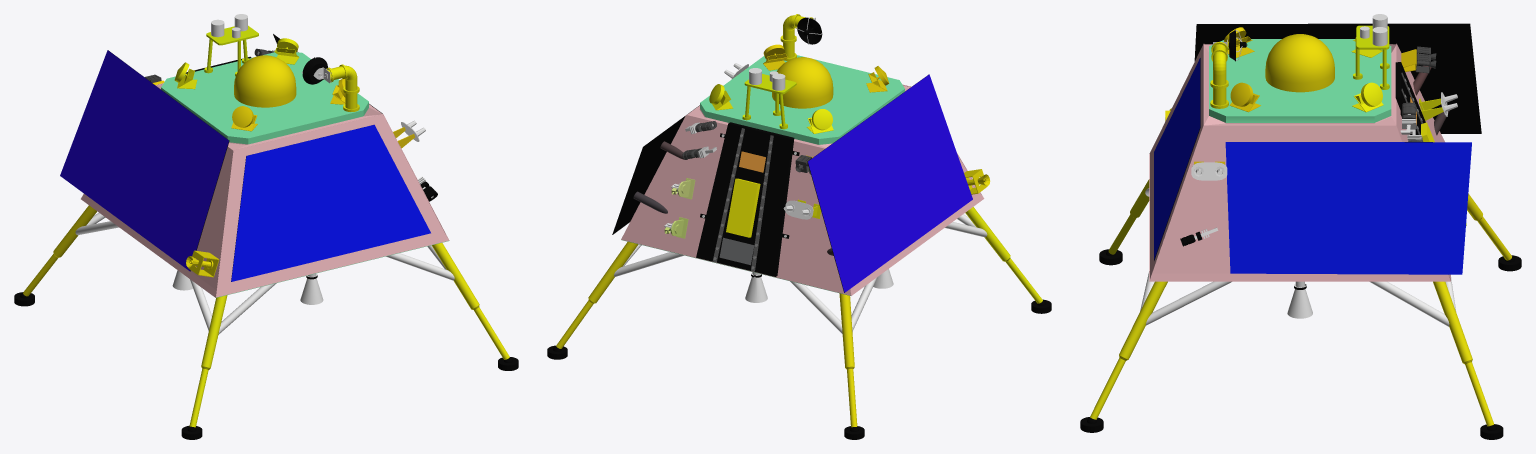
Rendered from Lander.fbx.
3 views of the same model, side by side, from view 1: azimuth 30°, elevation 25°; view 2: azimuth 150°, elevation 25°; view 3: azimuth 270°, elevation 25° (orthographic). The views are drawn at different scales.
Parts seen in each view (by area): view 1: Panel.001, Body_panel, Body, Dome, Leg, Leg.001, Leg.002, Cube.002, Cylinder.001, equip_2.001, Latch 1.001, Exhaust.002 (+1 smaller); view 2: Body, Panel.001, Door, Leg.002, Dome, Leg.003, Panel, Leg, soft land, Cylinder.001, Cube.002, checks (+5 smaller); view 3: Panel, Body, Panel.001, Body_panel, Dome, Leg.001, Leg.003, Cylinder.001, Cube.002, Leg, Leg.002, equip (+7 smaller).
Boxes of the visible parts, x1,y1,x2,y2 form: Panel.001: [60, 50, 229, 271]; Body_panel: [231, 124, 430, 281]; Body: [81, 51, 449, 297]; Dome: [234, 55, 296, 107]; Leg: [181, 279, 276, 439]; Leg.001: [386, 243, 518, 370]; Leg.002: [14, 205, 118, 306]; Cube.002: [301, 57, 359, 111]; Cylinder.001: [204, 14, 258, 76]; equip_2.001: [186, 250, 219, 277]; Latch 1.001: [231, 106, 257, 131]; Exhaust.002: [300, 273, 323, 304]; Body: [621, 55, 984, 295]; Panel.001: [807, 74, 972, 292]; Door: [696, 122, 794, 276]; Leg.002: [790, 277, 877, 439]; Dome: [772, 57, 833, 108]; Leg.003: [547, 241, 684, 359]; Panel: [612, 105, 699, 234]; Leg: [945, 207, 1051, 313]; soft land: [726, 178, 760, 237]; Cylinder.001: [742, 68, 796, 129]; Cube.002: [780, 14, 822, 60]; checks: [719, 237, 754, 265]; Panel: [1225, 142, 1471, 274]; Body: [1149, 39, 1450, 281]; Panel.001: [1194, 23, 1481, 133]; Body_panel: [1154, 58, 1200, 260]; Dome: [1265, 34, 1334, 92]; Leg.001: [1080, 271, 1231, 432]; Leg.003: [1369, 277, 1503, 439]; Cylinder.001: [1353, 14, 1389, 89]; Cube.002: [1210, 29, 1247, 108]; Leg: [1099, 179, 1149, 265]; Leg.002: [1467, 193, 1521, 271]; equip: [1401, 46, 1436, 73].
Size of the model in its own units: 754 by 624 by 761.
